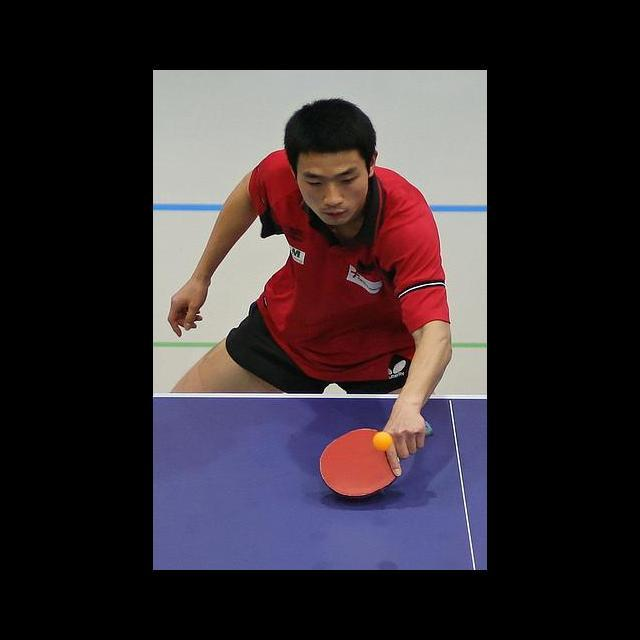ping-pong-ball: (372, 432, 393, 451)
